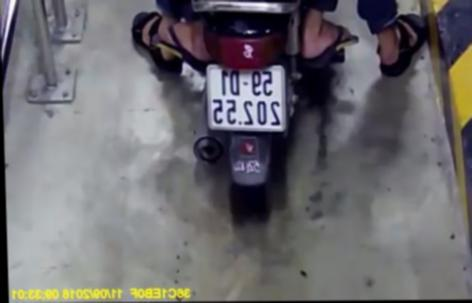License_Plate: (198, 62, 291, 138)
